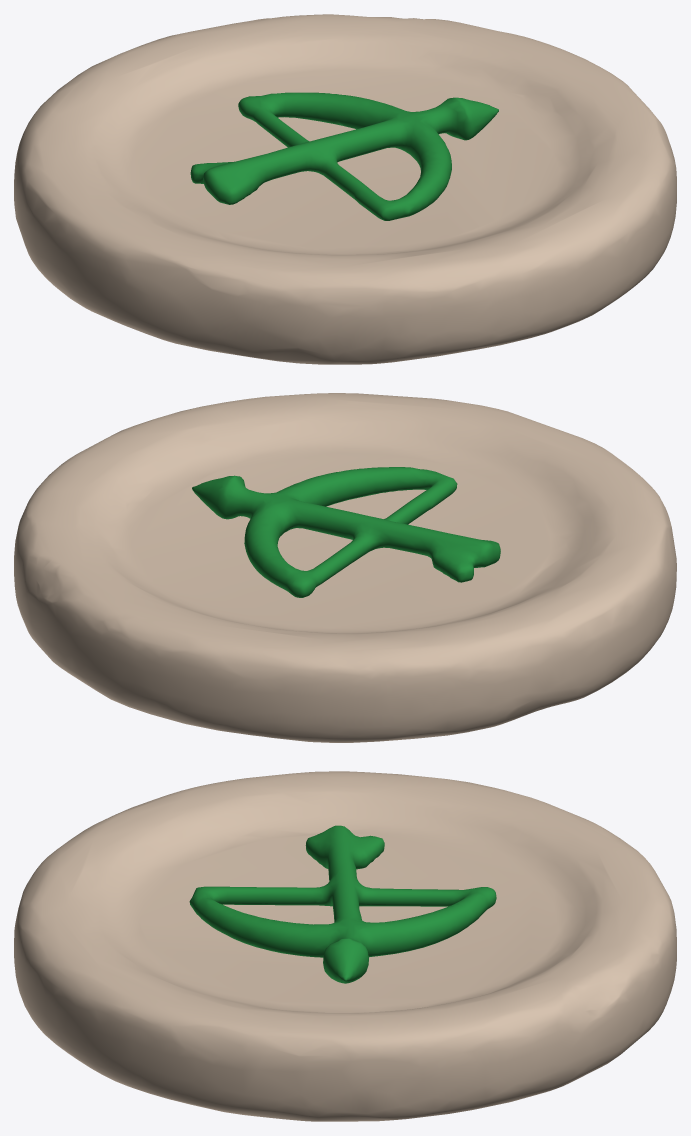
File: token-archer-red-draco.glb
3 renders of one model, top to bottom at view 1: azimuth 30°, elevation 25°; view 2: azimuth 150°, elevation 25°; view 3: azimuth 270°, elevation 25°, orthographic.
Visible parts, largest first — view 1: token_archer_red; view 2: token_archer_red; view 3: token_archer_red.
Boxes of the visible parts, x1,y1,x2,y2 form: token_archer_red: [14, 14, 676, 364]; token_archer_red: [14, 393, 676, 742]; token_archer_red: [14, 771, 676, 1121].
Bounding box in the file's own units: 0.4141 × 0.0748 × 0.4142.
